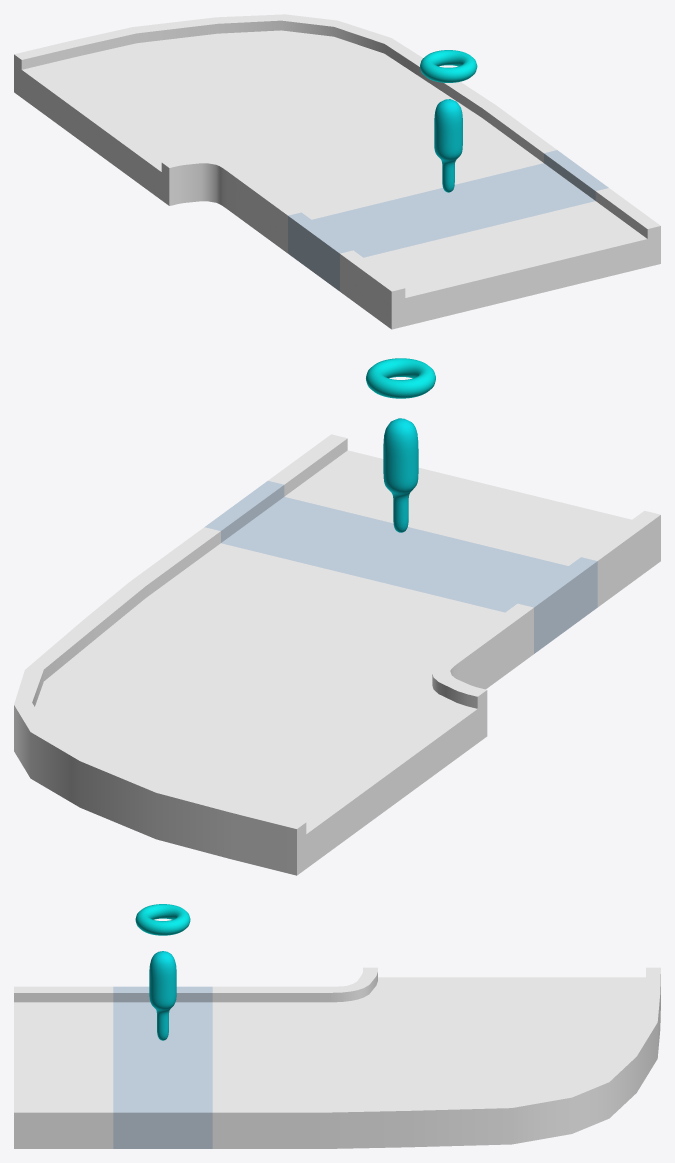
Rendered from stickman-shoot.fbx.
The picture shows the model from 3 angles, top to bottom: view 1: azimuth 30°, elevation 25°; view 2: azimuth 150°, elevation 25°; view 3: azimuth 270°, elevation 25°; orthographic projection. The views are drawn at different scales.
Visible parts, largest first — view 1: roundRoad, road, stick, Torus; view 2: roundRoad, road, stick, Torus; view 3: roundRoad, road, stick, Torus.
Boxes of the visible parts, <box> form: roundRoad: <box>14,14,504,215</box>; road: <box>236,112,660,329</box>; stick: <box>434,99,462,192</box>; Torus: <box>420,50,477,82</box>; roundRoad: <box>14,573,487,875</box>; road: <box>141,434,660,689</box>; stick: <box>383,418,418,532</box>; Torus: <box>366,358,435,398</box>; roundRoad: <box>312,967,660,1148</box>; road: <box>14,986,311,1148</box>; stick: <box>149,951,176,1040</box>; Torus: <box>135,904,190,935</box>.
Bounding box in the file's own units: 2.3 × 1.28 × 4.34.
3 materials, 1 textured.
